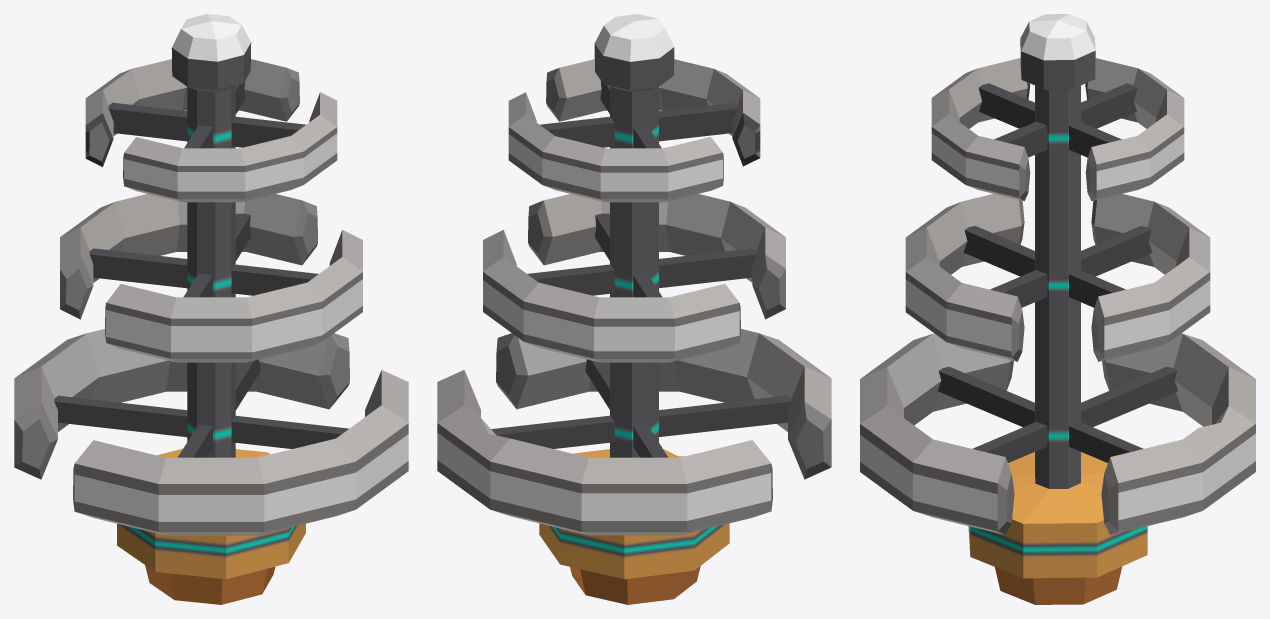
File: SM_Prop_Hover_Light_01.fbx
The picture shows the model from 3 angles, left to right: view 1: azimuth 30°, elevation 25°; view 2: azimuth 150°, elevation 25°; view 3: azimuth 270°, elevation 25°; orthographic projection.
Parts seen in each view (by area): view 1: SM_Prop_Hover_Light_01; view 2: SM_Prop_Hover_Light_01; view 3: SM_Prop_Hover_Light_01.
Boxes of the visible parts, x1,y1,x2,y2 form: SM_Prop_Hover_Light_01: [14, 14, 408, 604]; SM_Prop_Hover_Light_01: [437, 14, 831, 604]; SM_Prop_Hover_Light_01: [860, 14, 1255, 604].
Size of the model in its own units: 84.57 by 135 by 86.43.
